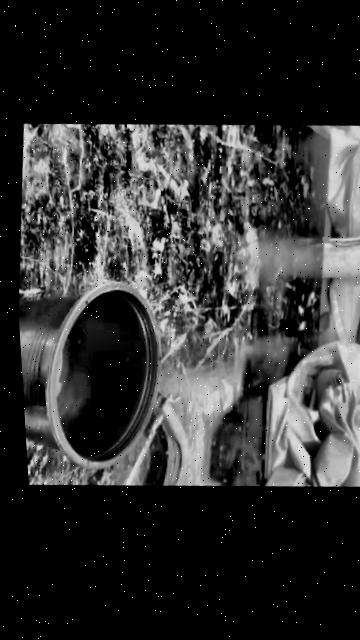pot: (17, 271, 170, 479)
